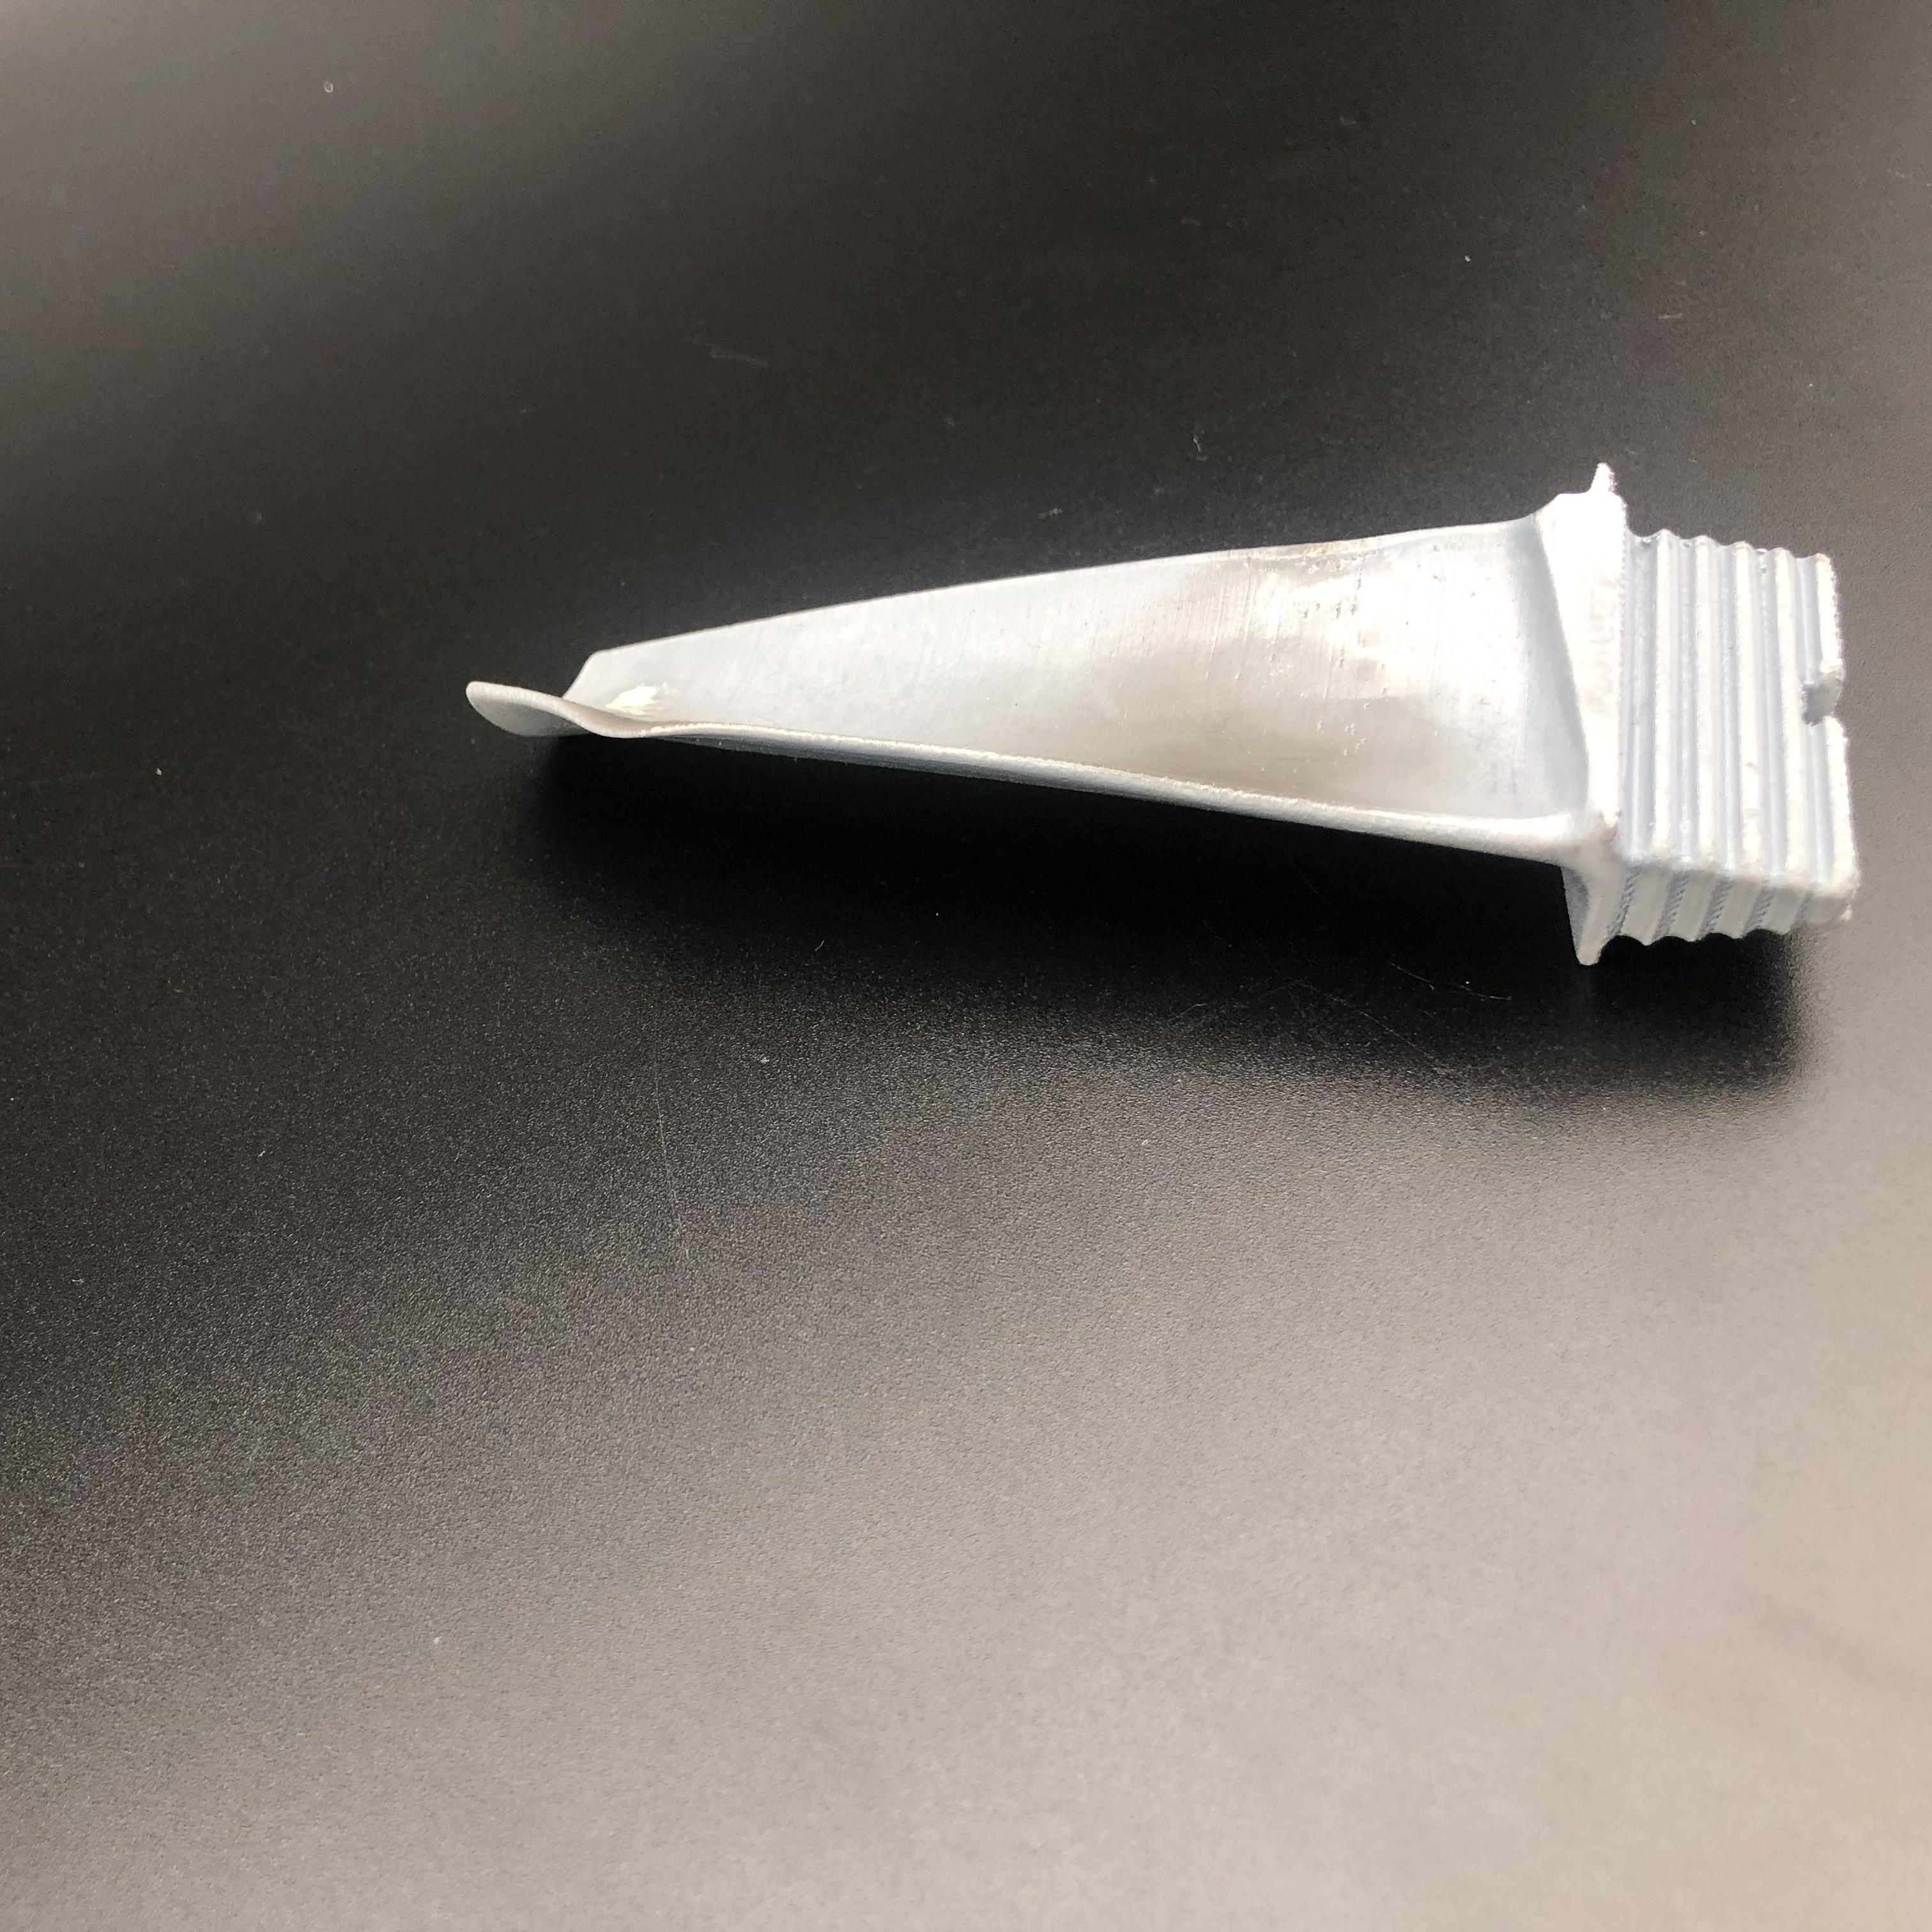ablation: (1118, 630, 1417, 801), (557, 688, 704, 745)
